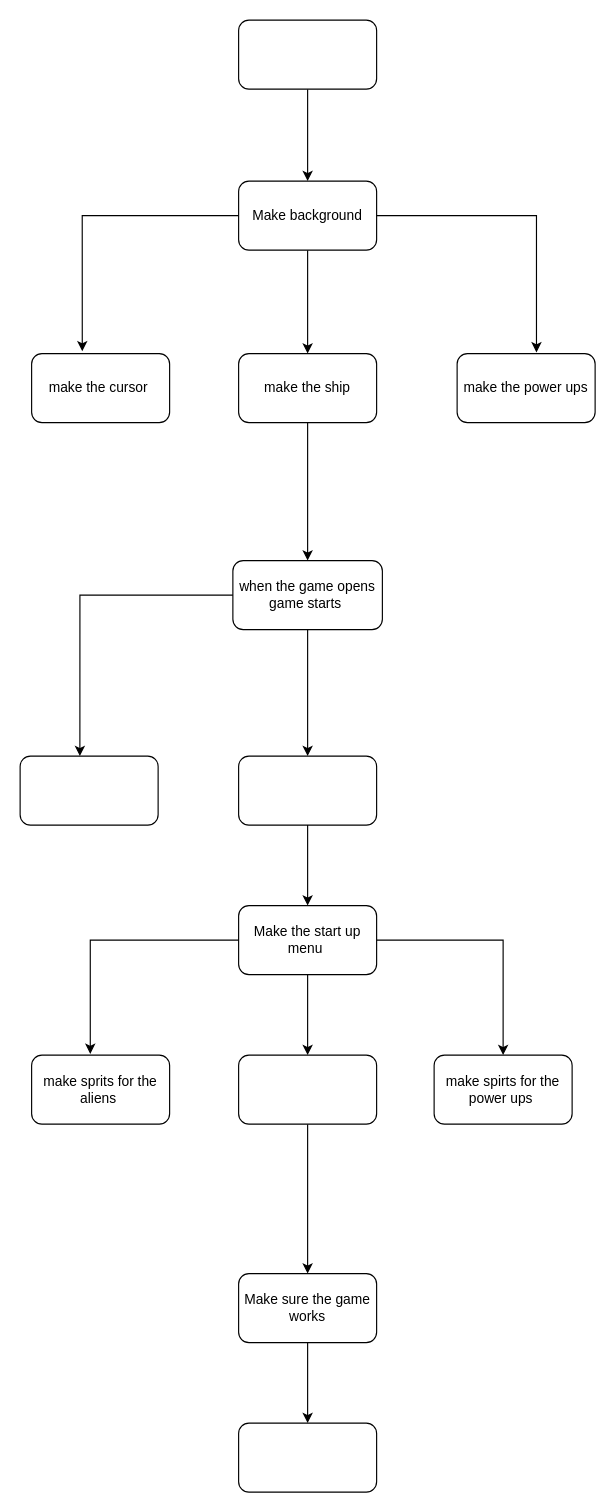
This 615x1512 diagram has some shape labels left out. The shapes that lost their labels are listed below. From the top down, each one's centre as x and y in pixels, then its label:
At point (307, 54): "Start".
At point (88, 790): "make the score code".
At point (307, 790): "make the code of the game".
At point (307, 1089): "Make the code for the aliens".
At point (307, 1457): "Publish the game".
